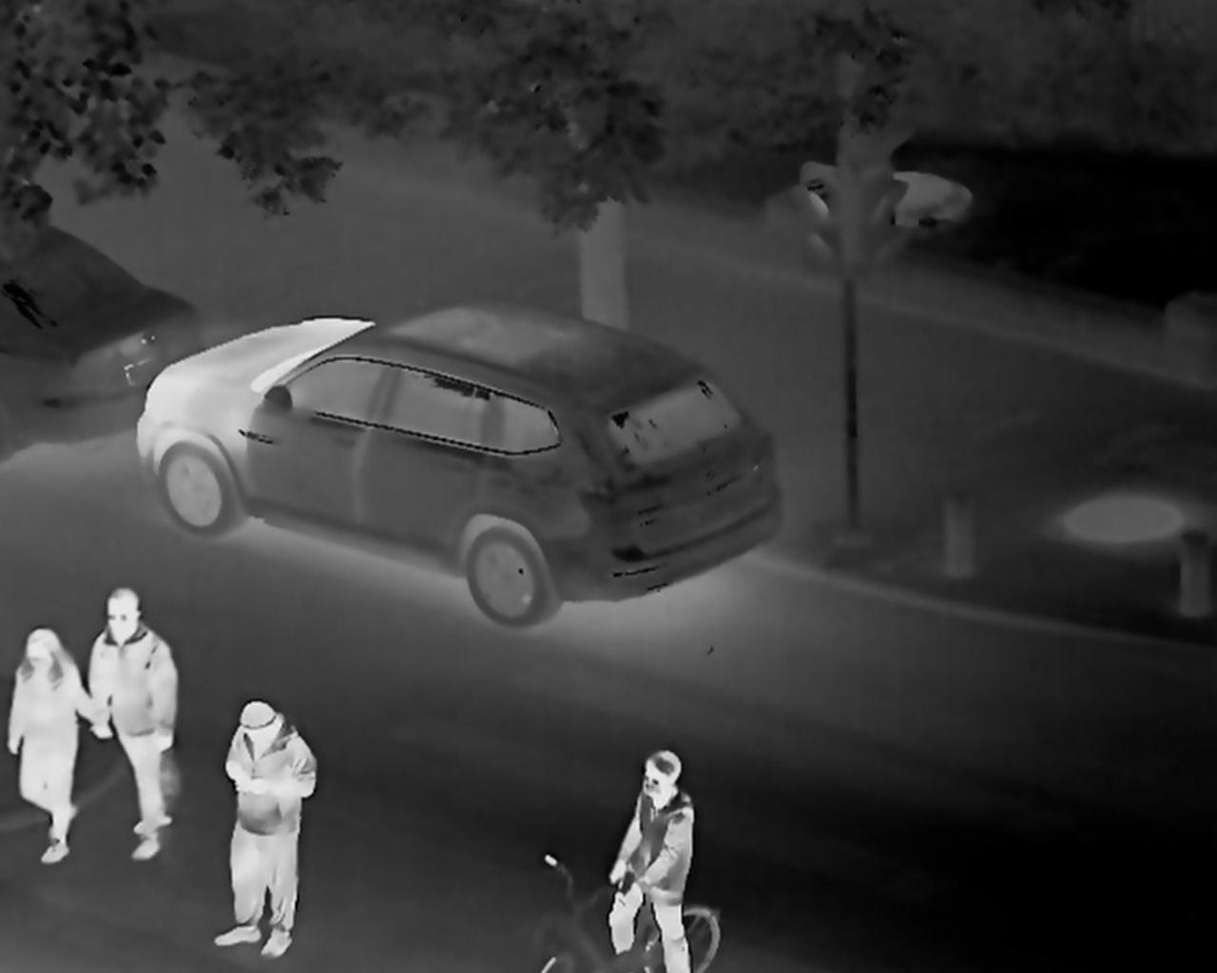person: (213, 699, 314, 961), (85, 582, 179, 861), (8, 625, 98, 865), (603, 747, 698, 973)
